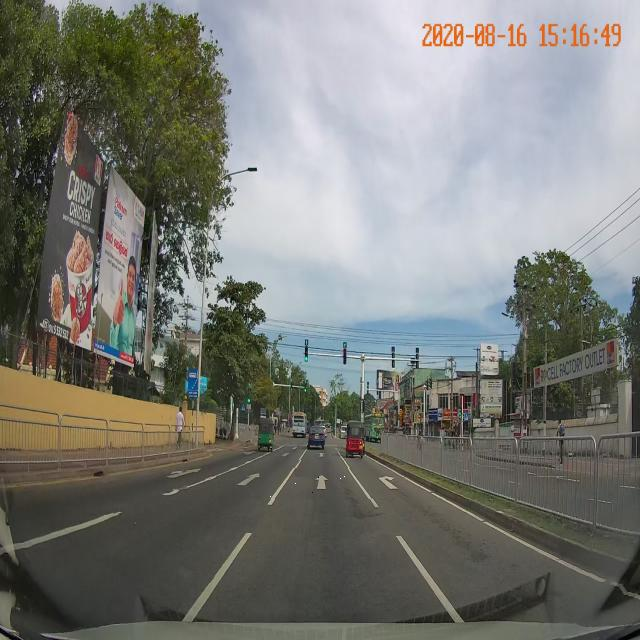forward: (270, 468, 372, 499), (298, 446, 343, 460)
